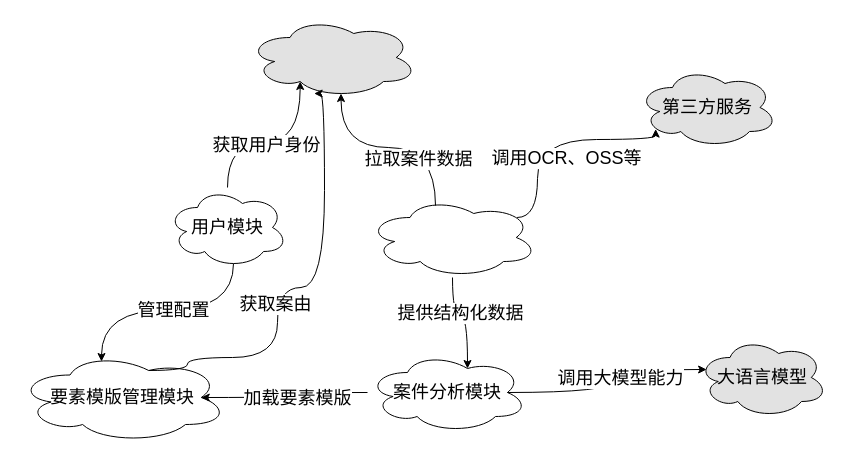
Some shapes in this 845 by 460 pixel diagram are drawn without their labels. Here are the shapes that lost their labels. From the top down, the box of each, then its label:
(246, 16, 418, 98): 共享法庭系统
(366, 196, 538, 278): 案件管理模块
